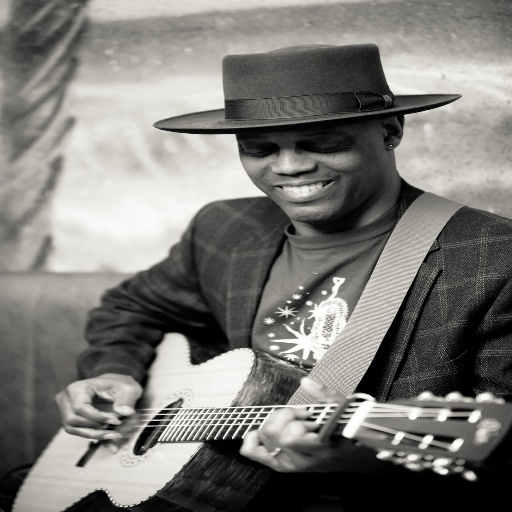hand: (235, 405, 388, 475), (48, 372, 162, 448)
